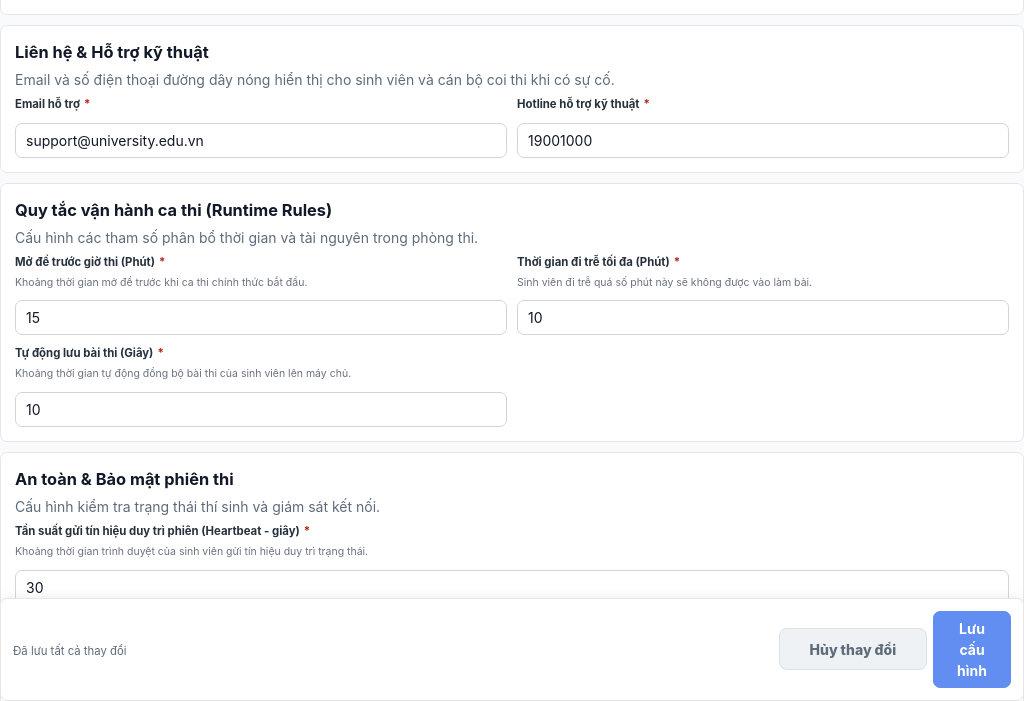
SettingsPage UI and validations › validates runtime constraints
(page scrolled)
Replace the text in the number field labelled "Mở đề trước giờ thi (Phút) *" with "150" at (261, 318), box [15,300,507,335]
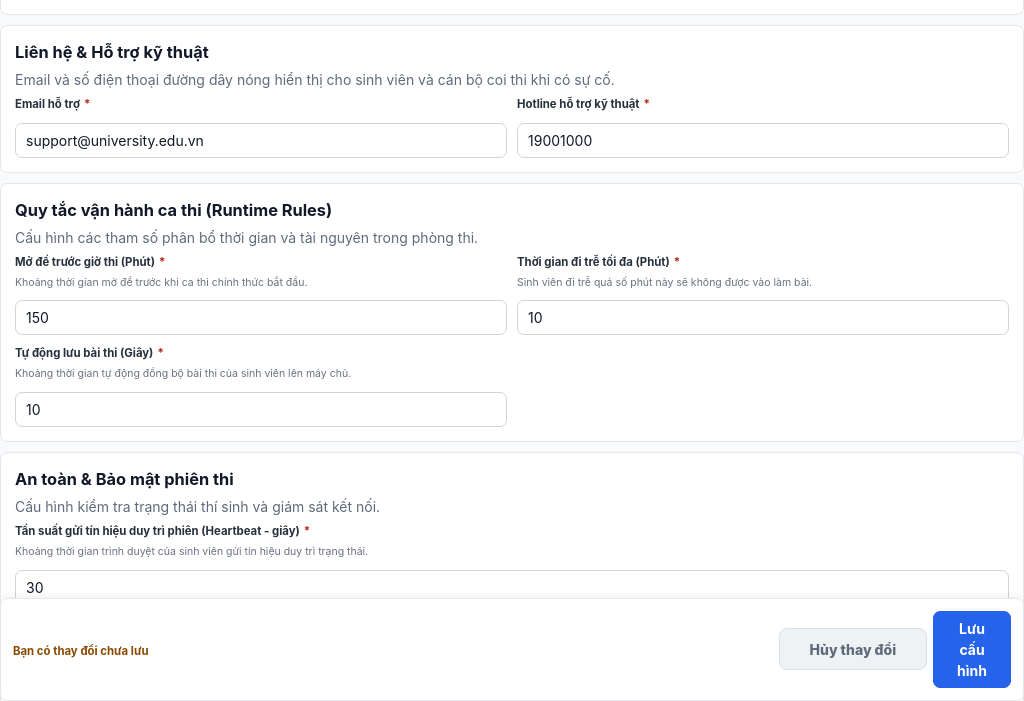
Click the button "Lưu cấu hình".
click(972, 650)  # box [933,611,1011,688]
(page scrolled)
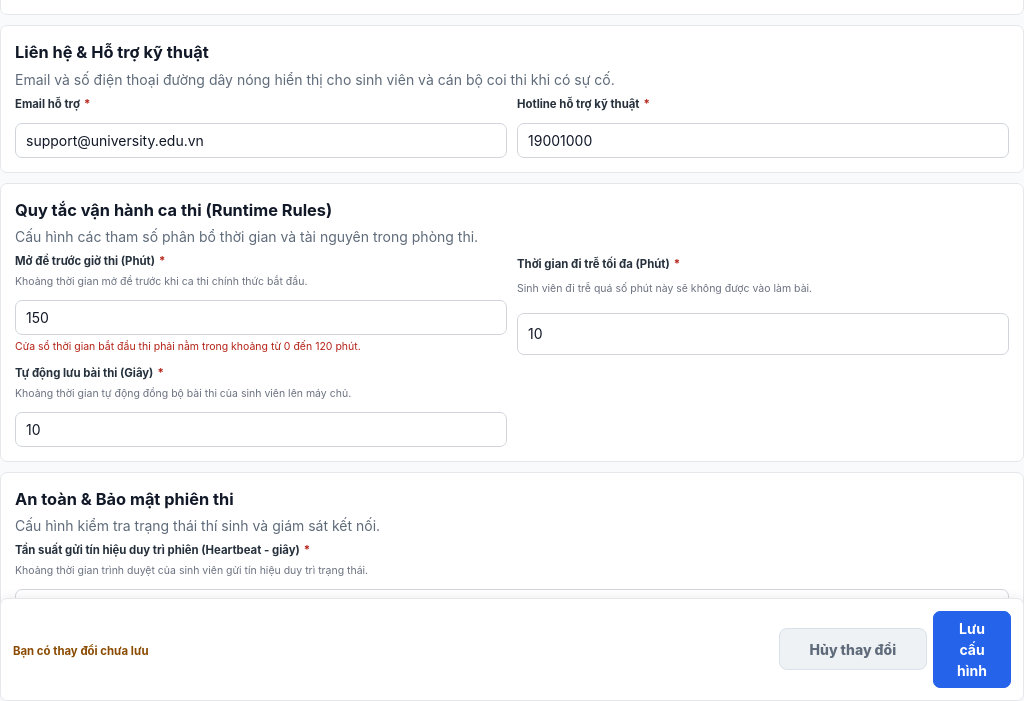
Now the text "Cửa sổ thời gian bắt đầu thi phải nằm trong khoảng từ 0 đến 120 phút." is shown, box [15,340,361,353]
